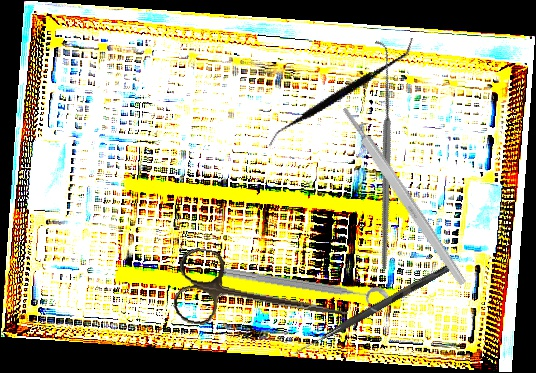Fixation Ring: (220, 263, 391, 316)
Hook Surgical: (277, 39, 486, 271), (292, 262, 452, 359)
Iris Scissors: (171, 245, 355, 348)
Scalpel Handle: (339, 104, 469, 288)
Spatula Surgical: (265, 1, 416, 184)
